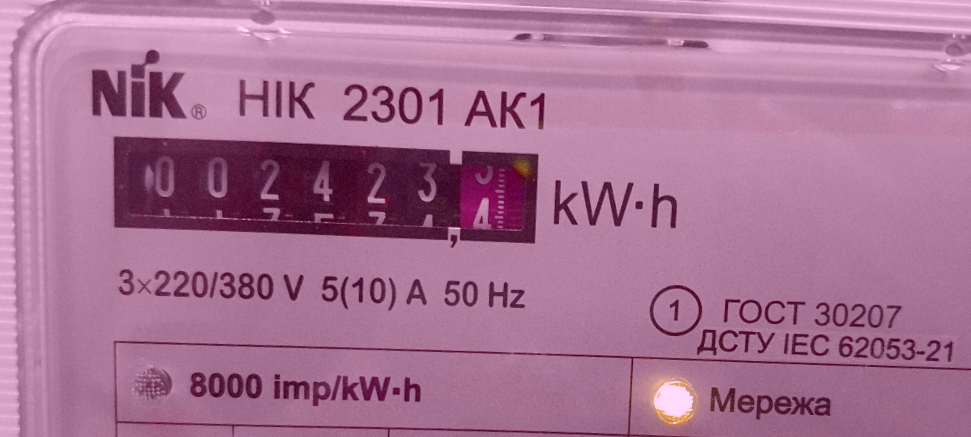0: (150, 151, 179, 200), (203, 154, 231, 200)
2: (255, 155, 283, 202), (362, 159, 388, 206)
3: (414, 159, 439, 204), (472, 161, 495, 185)
4: (309, 157, 334, 204), (468, 192, 495, 231)
screen: (97, 120, 553, 261)
